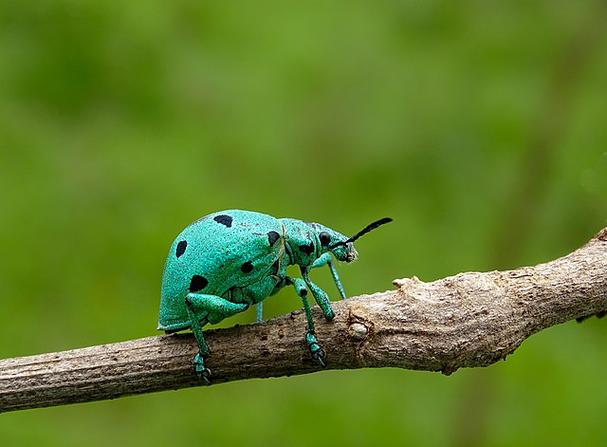Curculionidae: (155, 208, 394, 387)
